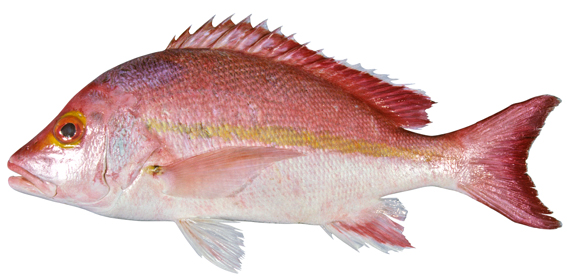fish: (6, 11, 563, 275)
